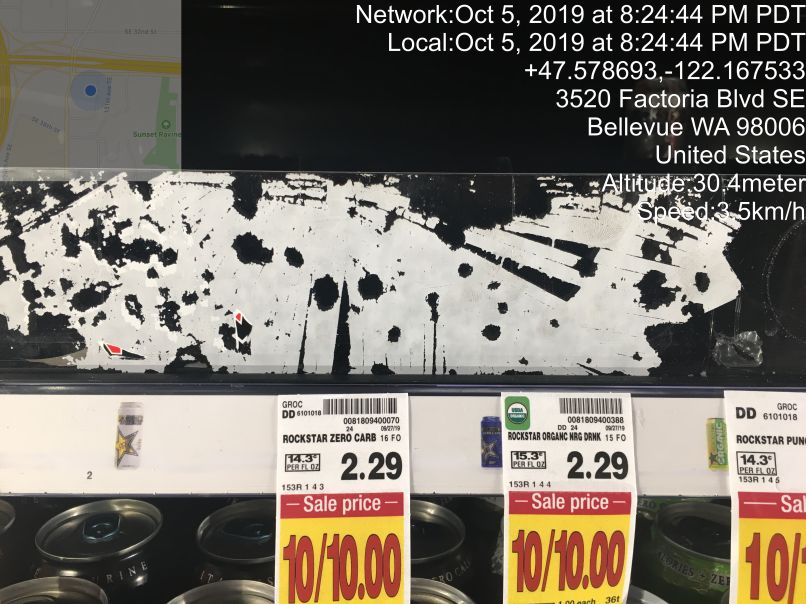Label: (275, 388, 423, 495)
Location: (546, 81, 806, 169)
Time: (343, 1, 806, 56)
Void: (8, 42, 633, 363)
